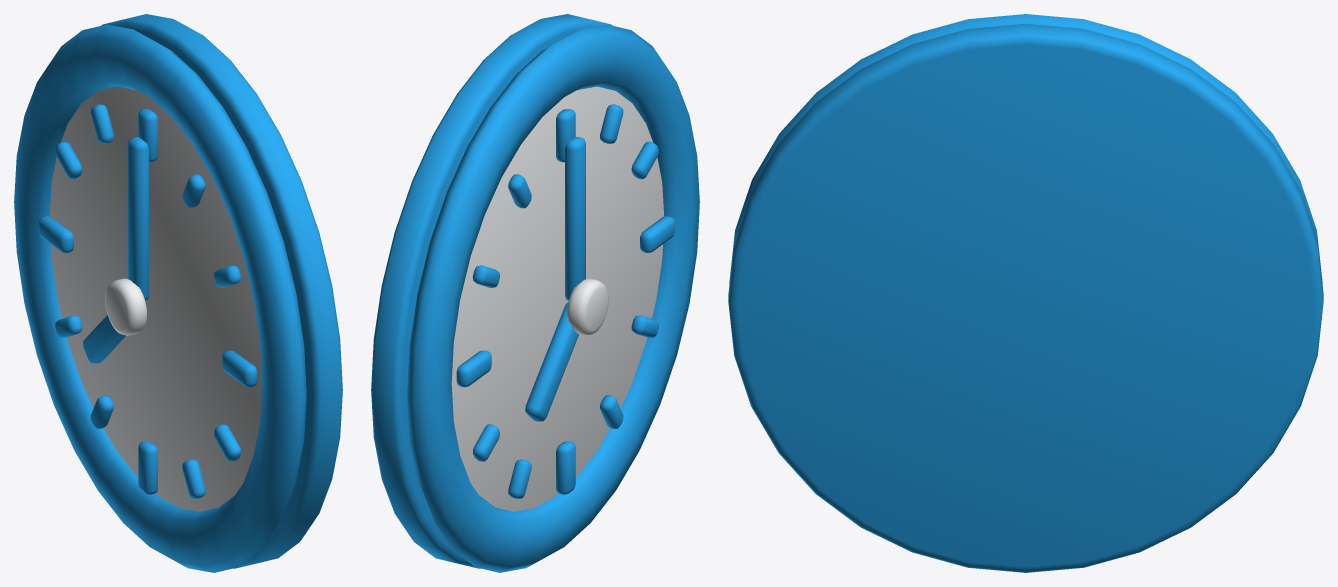
File: Relogio_Parede.fbx
3 views of the same model, side by side, from view 1: azimuth 30°, elevation 25°; view 2: azimuth 150°, elevation 25°; view 3: azimuth 270°, elevation 25° (orthographic). The views are drawn at different scales.
Parts seen in each view (by area): view 1: Relogio_Mostrador, Relogio_Aro, Relogio_Corpo, Relogio_Marcadores, Relogio_PonteiroMinuto, Relogio_PinoCentral, Relogio_PonteiroHora; view 2: Relogio_Aro, Relogio_Mostrador, Relogio_Corpo, Relogio_Marcadores, Relogio_PonteiroMinuto, Relogio_PonteiroHora, Relogio_PinoCentral; view 3: Relogio_Corpo, Relogio_Aro.
Part boxes in pixels (x1,y1,x2,y2): Relogio_Mostrador: [49, 86, 262, 511]; Relogio_Aro: [14, 24, 306, 572]; Relogio_Corpo: [101, 14, 342, 568]; Relogio_Marcadores: [39, 104, 257, 498]; Relogio_PonteiroMinuto: [128, 137, 148, 300]; Relogio_PinoCentral: [105, 278, 147, 335]; Relogio_PonteiroHora: [83, 315, 125, 363]; Relogio_Aro: [407, 24, 699, 572]; Relogio_Mostrador: [451, 86, 664, 511]; Relogio_Corpo: [371, 14, 612, 568]; Relogio_Marcadores: [456, 104, 674, 498]; Relogio_PonteiroMinuto: [565, 137, 585, 300]; Relogio_PonteiroHora: [525, 302, 578, 421]; Relogio_PinoCentral: [566, 278, 608, 335]; Relogio_Corpo: [728, 23, 1323, 572]; Relogio_Aro: [729, 14, 1322, 283].
Size of the model in its own units: 64.4 by 356 by 356.
